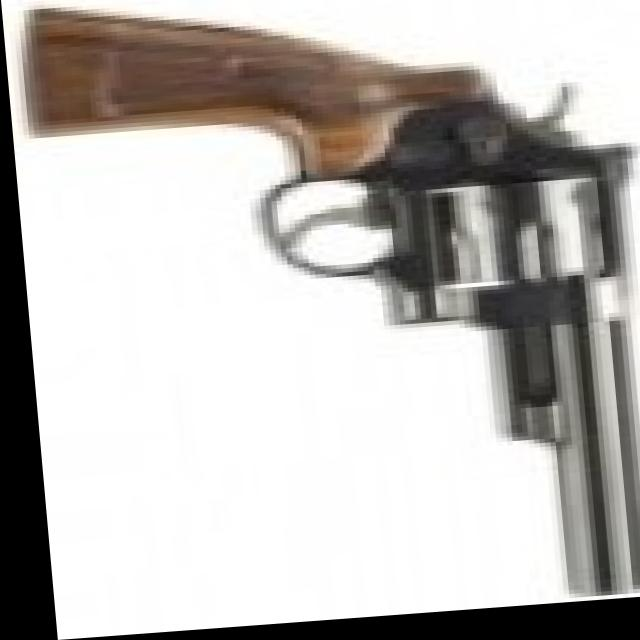handgun: (18, 0, 640, 639)
